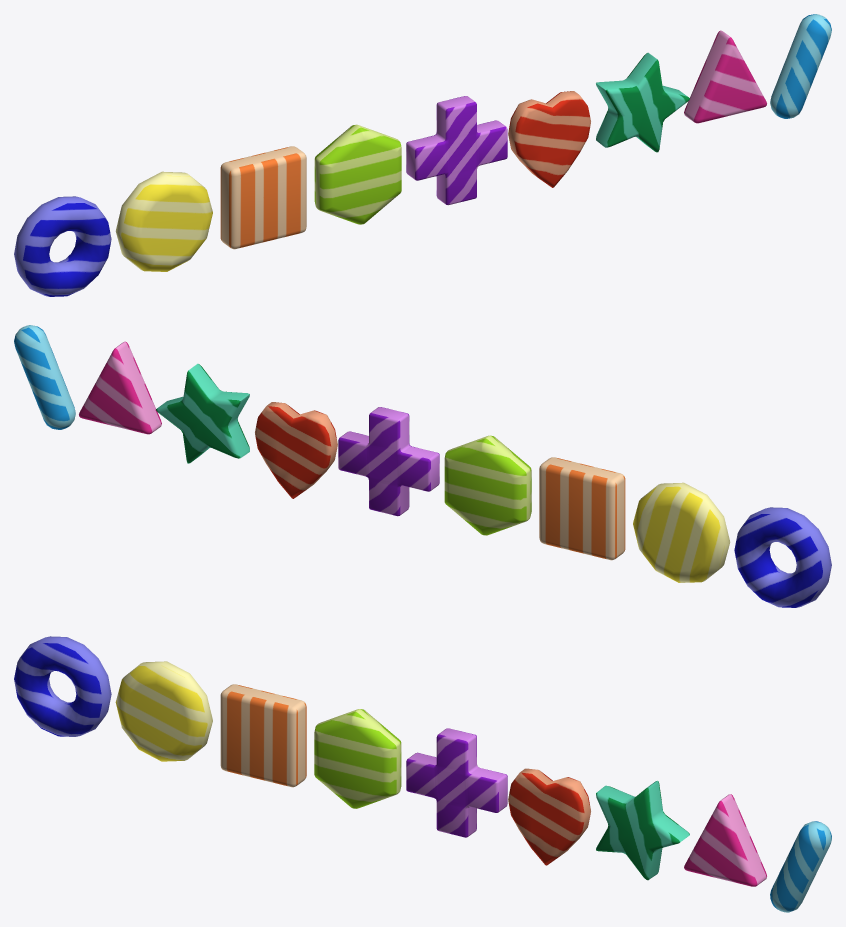
Rendered from decopart_Seperate.fbx.
3 views of the same model, one above another, from view 1: azimuth 30°, elevation 25°; view 2: azimuth 150°, elevation 25°; view 3: azimuth 330°, elevation 25° (orthographic).
Parts seen in each view (by area): view 1: Cube.008, Cylinder.016, Torus.008, Cylinder.017, Cube.010, Cylinder.018, Star, Cube.009, Sphere.003; view 2: Cube.008, Cylinder.016, Torus.008, Cylinder.017, Cube.010, Cylinder.018, Star, Cube.009, Sphere.003; view 3: Cube.008, Cylinder.016, Torus.008, Cylinder.017, Cube.010, Cylinder.018, Star, Cube.009, Sphere.003.
Boxes of the visible parts, box(x1,y1,x2,y2) form: Cube.008: box(220, 146, 306, 249); Cylinder.016: box(115, 171, 212, 271); Torus.008: box(14, 196, 111, 296); Cylinder.017: box(314, 124, 401, 224); Cube.010: box(406, 96, 507, 205); Cylinder.018: box(508, 91, 590, 187); Star: box(596, 52, 689, 152); Cube.009: box(684, 30, 766, 123); Sphere.003: box(770, 14, 831, 118); Cube.008: box(539, 457, 625, 560); Cylinder.016: box(633, 482, 730, 582); Torus.008: box(734, 507, 831, 607); Cylinder.017: box(444, 435, 531, 535); Cube.010: box(338, 407, 439, 516); Cylinder.018: box(255, 402, 337, 498); Star: box(156, 363, 249, 463); Cube.009: box(79, 341, 161, 434); Sphere.003: box(14, 325, 75, 429); Cube.008: box(220, 684, 306, 787); Cylinder.016: box(115, 661, 212, 761); Torus.008: box(14, 636, 111, 736); Cylinder.017: box(314, 709, 401, 808); Cube.010: box(406, 728, 507, 837); Cylinder.018: box(508, 768, 590, 865); Star: box(596, 780, 689, 880); Cube.009: box(684, 794, 766, 886); Sphere.003: box(770, 821, 831, 912).
Bounding box in the file's own units: 212 × 7.96 × 27.16.
